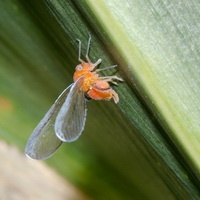insect: (25, 33, 122, 159)
